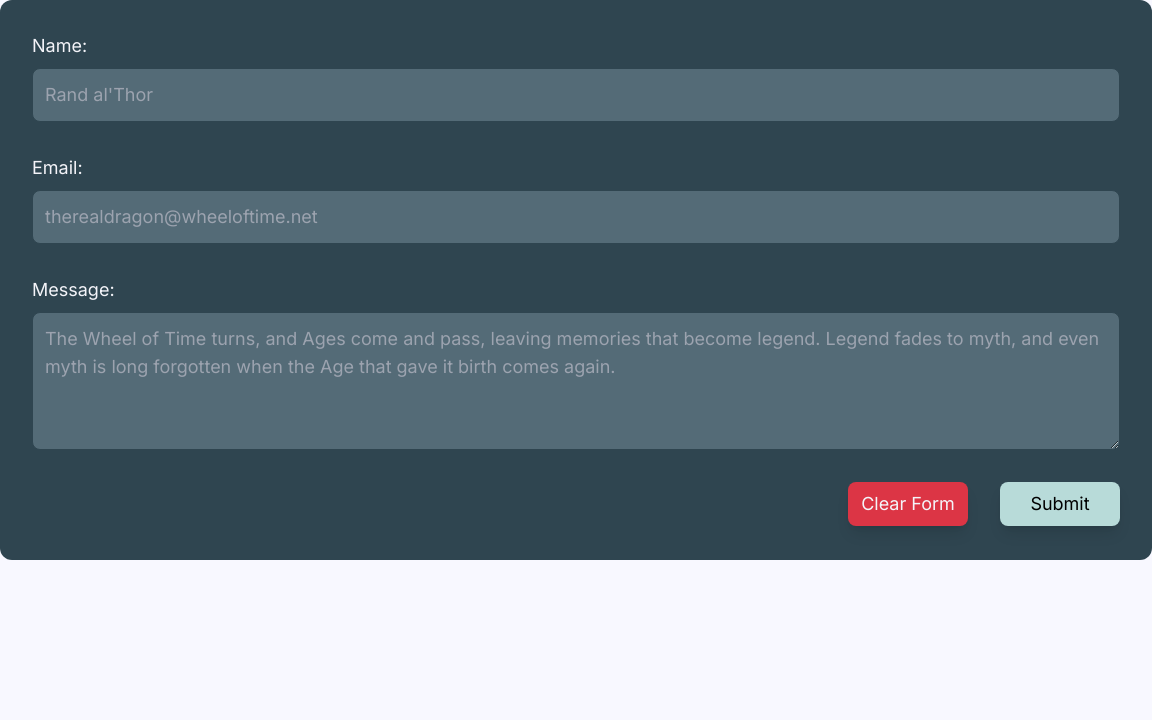
it: Contact Form › shows the appropriate error message when submission is unsuccessful
The width and height of the screenshot is (1152, 720).
In the field named "name": coordinates (576, 95) [32,68,1120,122], type "Server Thrower"
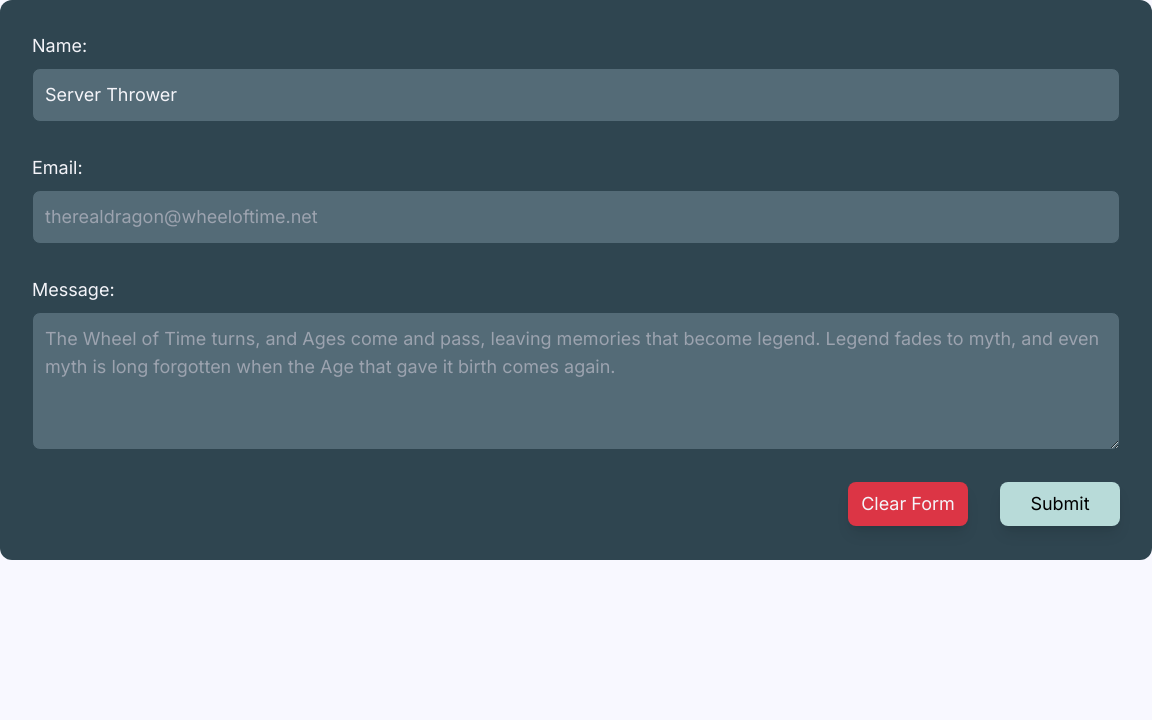
In the field named "email": coordinates (576, 217) [32,190,1120,244], type "thebestthrower@discus.net"
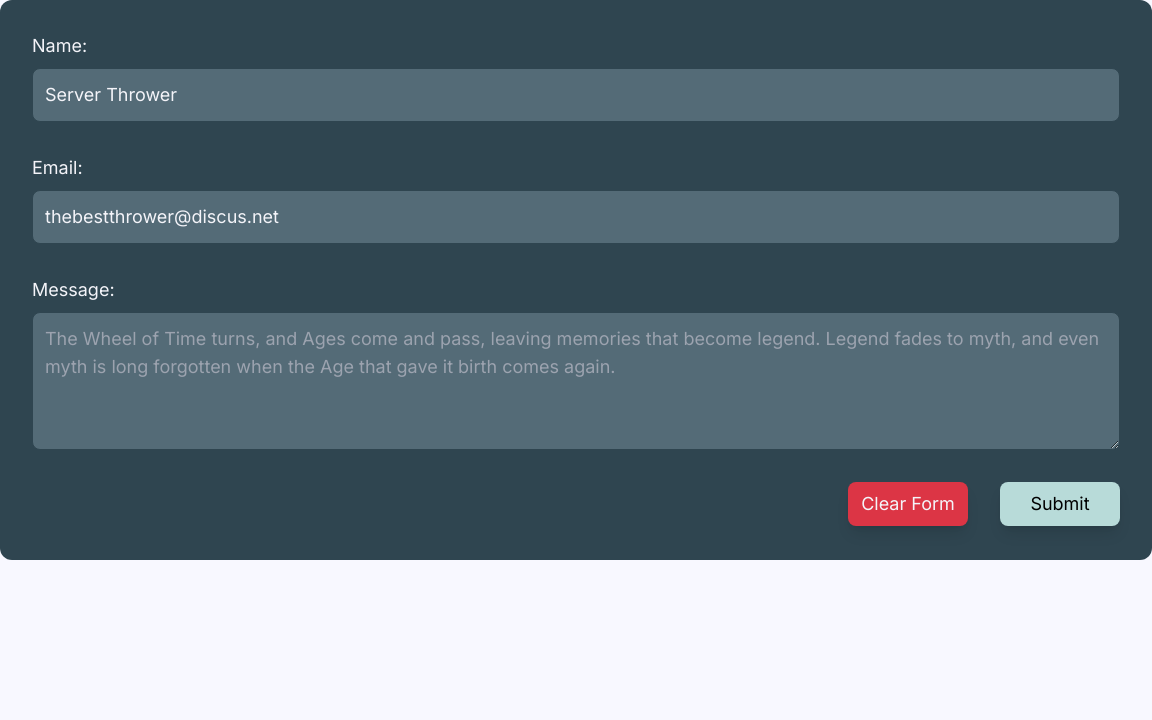
Replace the text in the text box named "message" with "Nobody throws server errors like I do.": coordinates (576, 381) [32,312,1120,450]
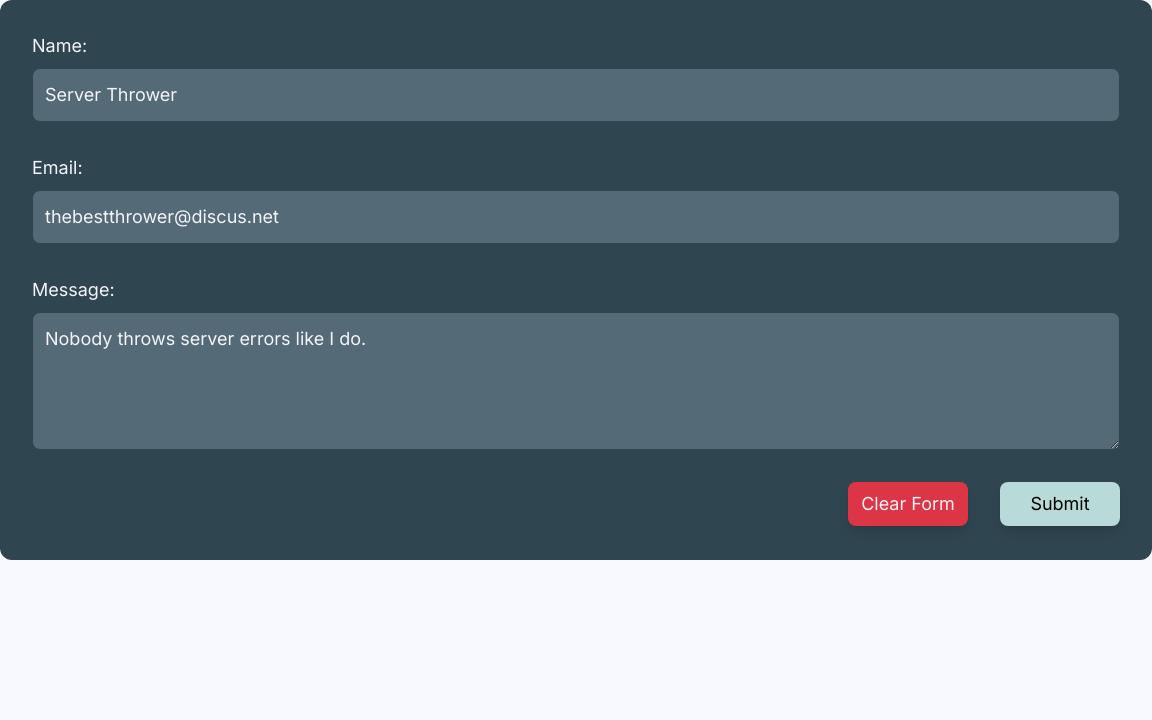
Click the button "Submit": coordinates (1060, 504) [1000,482,1120,526]
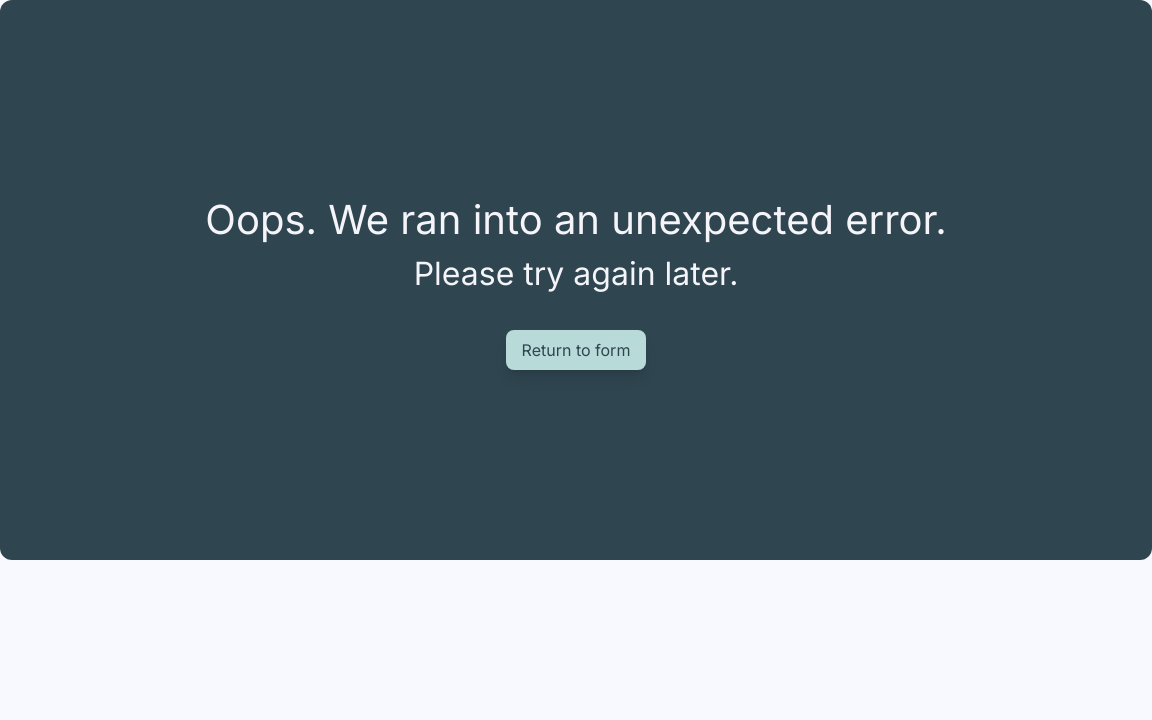
Now the heading "Oops. We ran into an unexpected error." is shown, box [205,190,947,250]
